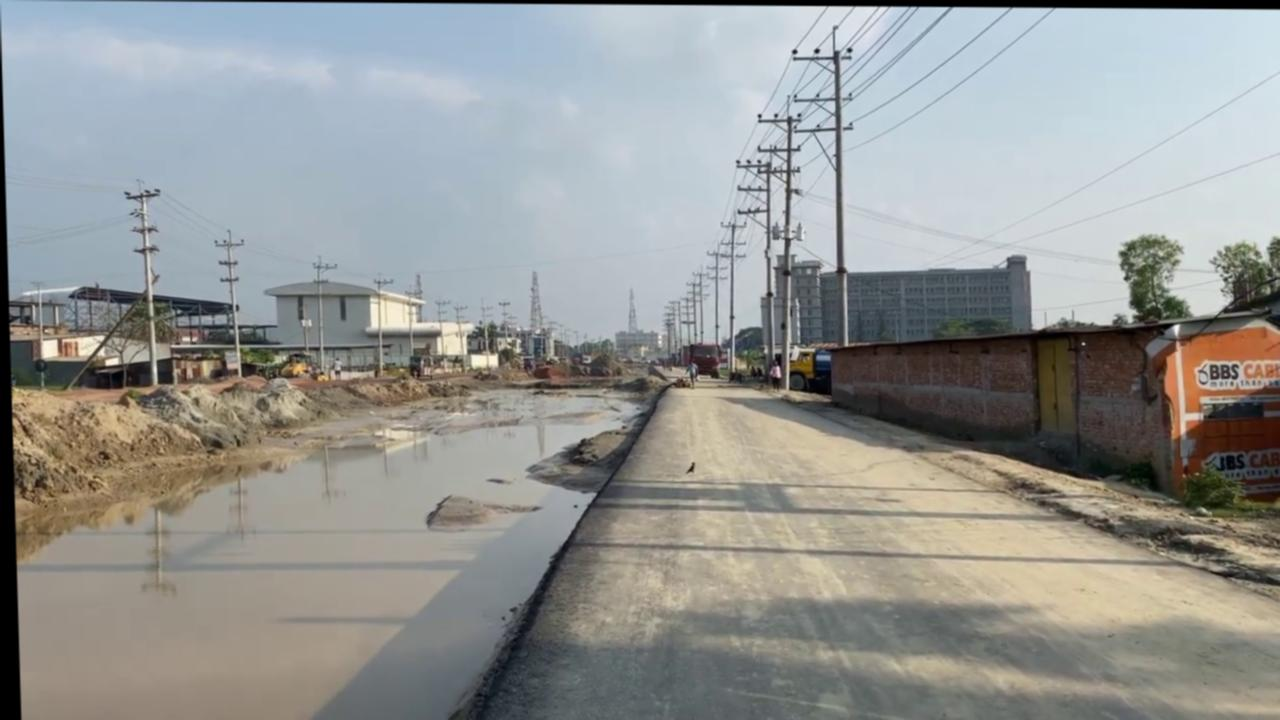Pole: (122, 179, 163, 385), (211, 228, 245, 375), (309, 255, 338, 372)
Rickshaw: (440, 367, 1280, 720)
Sidewalk: (9, 375, 659, 720)
Traffic-sign: (1114, 229, 1189, 321), (1206, 237, 1269, 306)
Tree: (785, 344, 831, 392), (679, 342, 718, 377), (277, 353, 309, 378), (725, 361, 762, 382), (405, 354, 432, 378)
